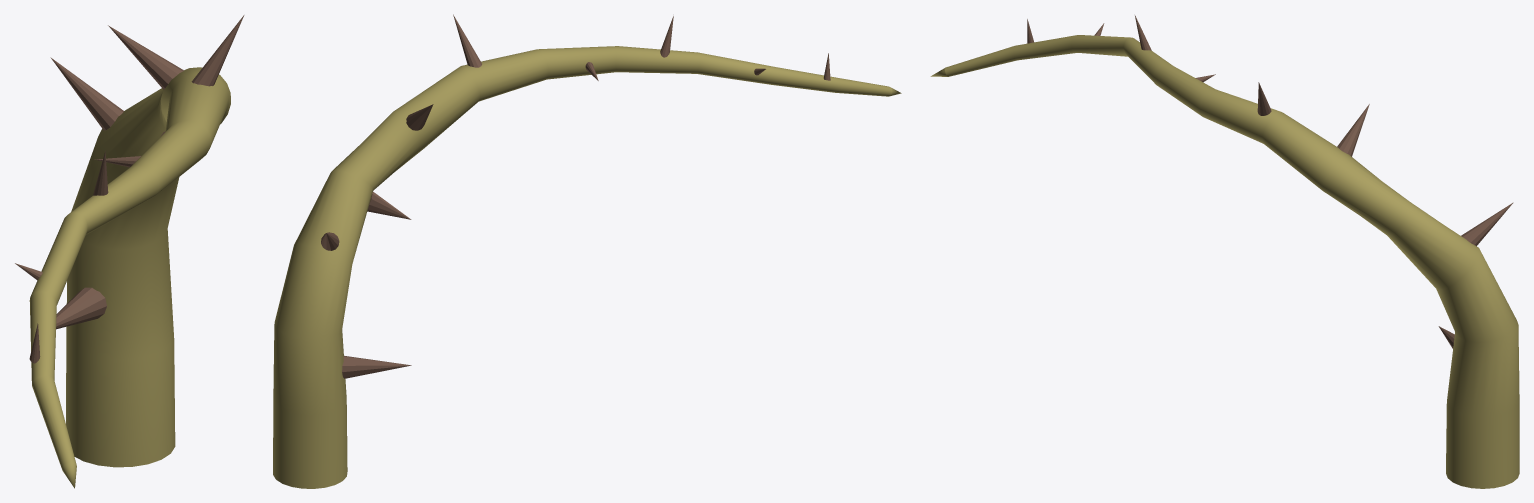
The model's file is vine_thorns_3.fbx.
3 views of the same model, side by side, from view 1: azimuth 30°, elevation 25°; view 2: azimuth 150°, elevation 25°; view 3: azimuth 270°, elevation 25° (orthographic). The views are drawn at different scales.
Parts seen in each view (by area): view 1: polySurface12; view 2: polySurface12; view 3: polySurface12.
Part boxes in pixels (x1=…): polySurface12: x1=15, y1=15, x2=244, y2=488; polySurface12: x1=273, y1=14, x2=901, y2=488; polySurface12: x1=930, y1=15, x2=1519, y2=488.
Size of the model in its own units: 7.59 by 8.09 by 11.43.
